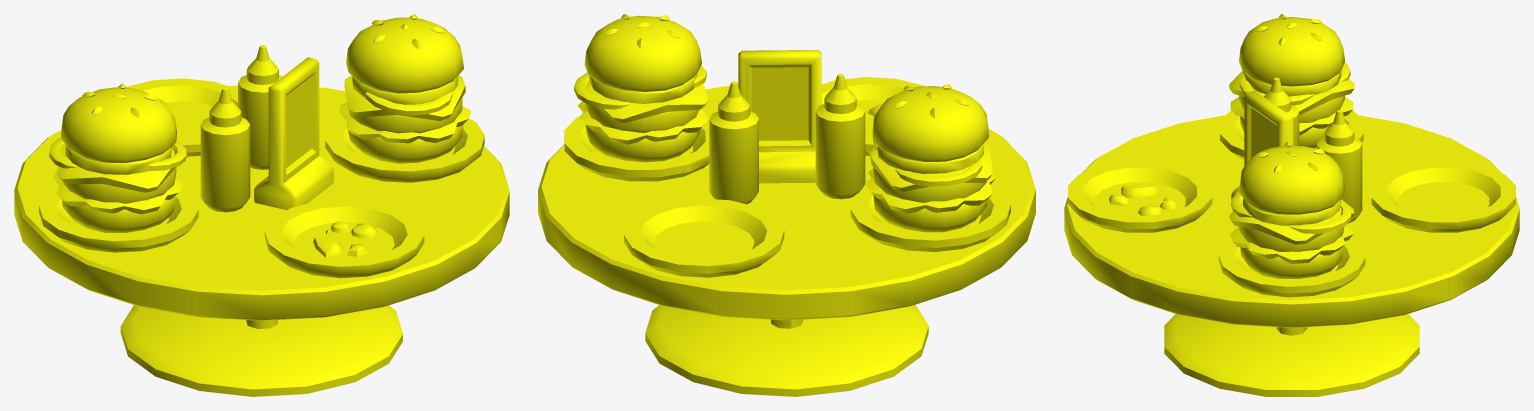
The model's file is kaykit-table-round-a-decorated.glb.
The picture shows the model from 3 angles, left to right: view 1: azimuth 30°, elevation 25°; view 2: azimuth 150°, elevation 25°; view 3: azimuth 270°, elevation 25°; orthographic projection. The views are drawn at different scales.
Visible parts, largest first — view 1: table_round_A_decorated; view 2: table_round_A_decorated; view 3: table_round_A_decorated.
Boxes of the visible parts, x1,y1,x2,y2 form: table_round_A_decorated: (14,14,509,396); table_round_A_decorated: (538,14,1035,396); table_round_A_decorated: (1064,14,1519,396).
Size of the model in its own units: 3 by 1.86 by 3.
